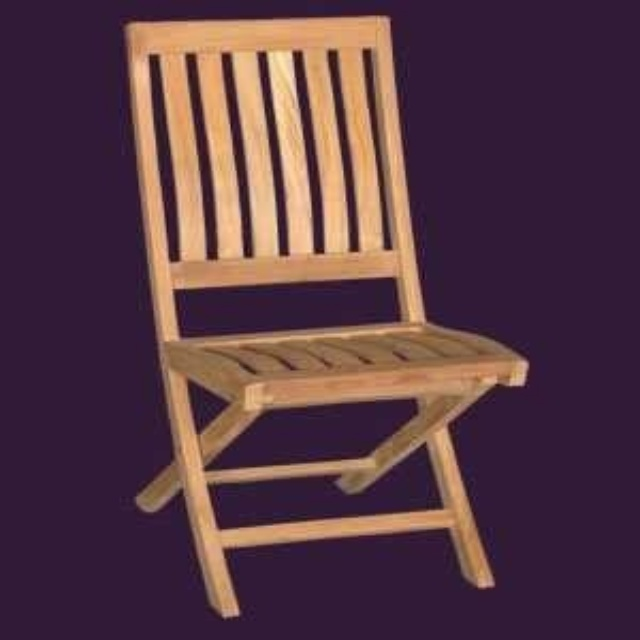obstacle: (126, 16, 525, 617)
